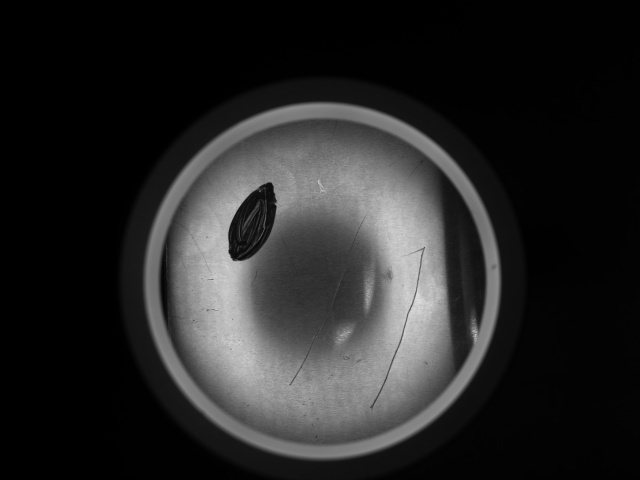ca_shang: (286, 205, 368, 385), (369, 246, 424, 415)
zang_wu: (226, 180, 284, 263)
